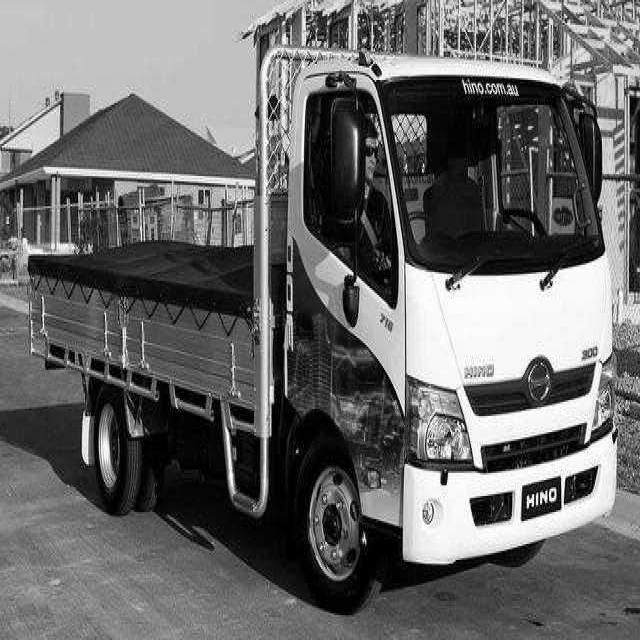Truck: (30, 47, 616, 608)
